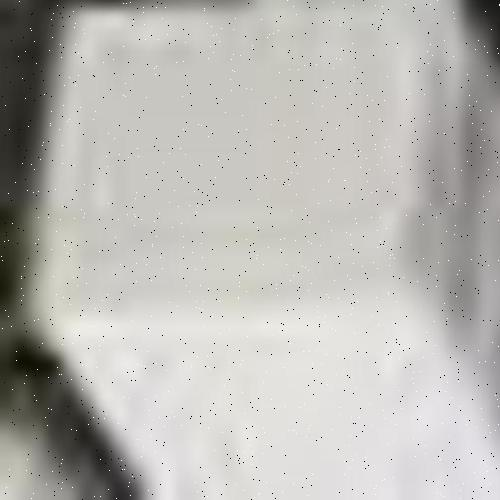Other: (57, 4, 500, 495)
